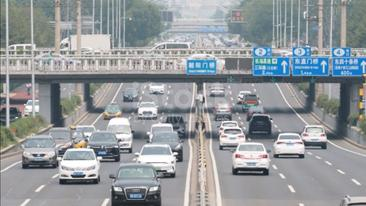car: (105, 158, 167, 206), (54, 142, 106, 190), (229, 141, 276, 181), (16, 131, 61, 170), (132, 139, 179, 170), (104, 109, 135, 150), (84, 131, 124, 162), (271, 132, 308, 161), (297, 124, 333, 153), (213, 123, 247, 152)
